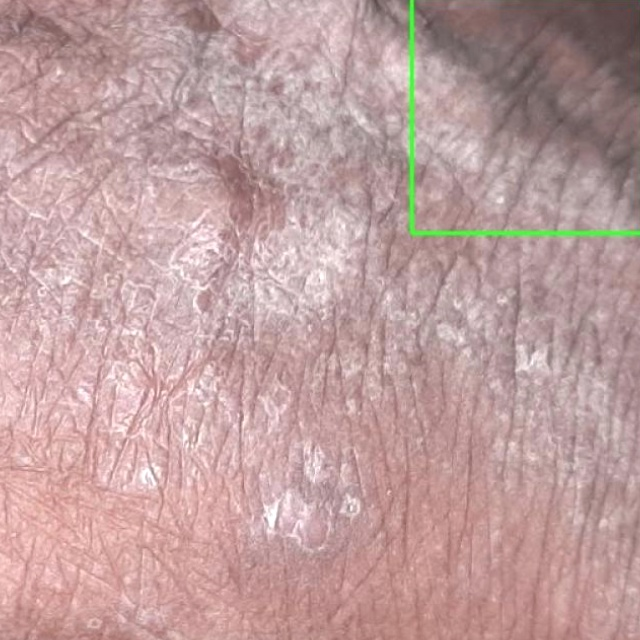Eczema: (410, 0, 639, 234)
